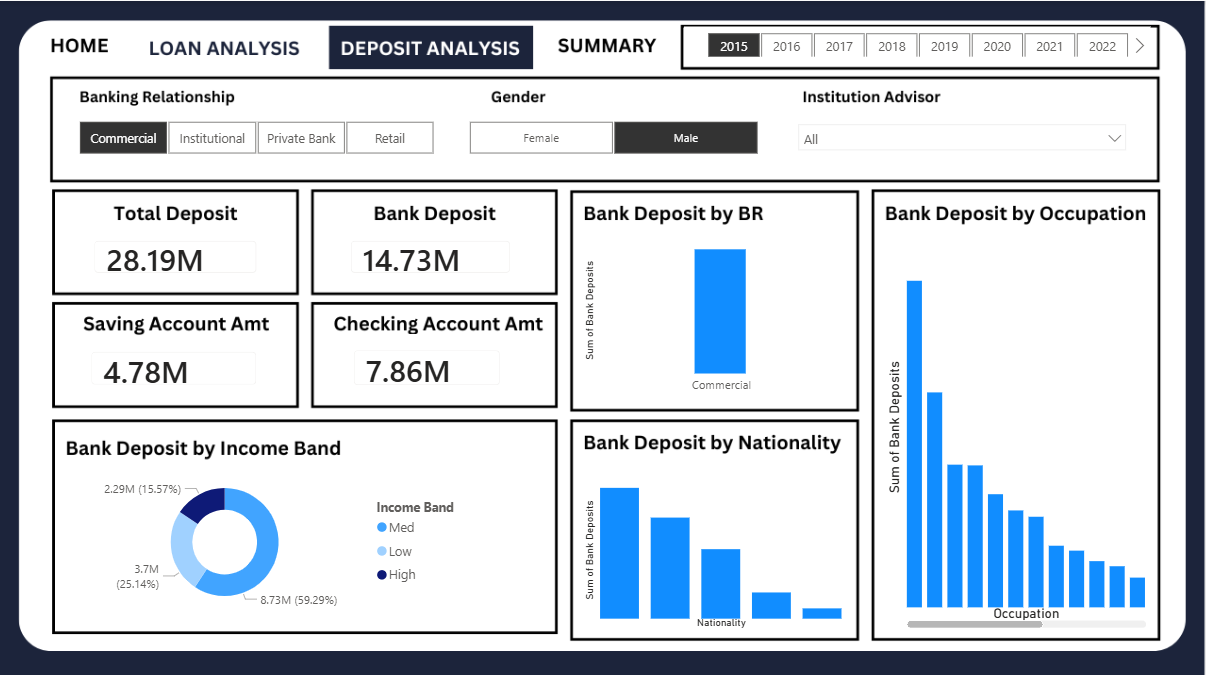

Layout of this report page (visuals, bound fields, positions):
{"tool":"powerbi","page":{"name":"Deposit analysis","canvas":[1280,720],"ordinal":2},"visuals":[{"type":"cardVisual","fields":{"Data":["Sum(Banking (1).Checking Accounts)"]},"box":[361.1,353.1,189.3,71.6],"z":0},{"type":"cardVisual","fields":{"Data":["Sum(Banking (1).Saving Accounts)"]},"box":[82.7,354.7,210,70],"z":1000},{"type":"cardVisual","fields":{"Data":["Sum(Banking (1).Bank Deposits)"]},"box":[357.9,237,203.6,68.4],"z":2000},{"type":"cardVisual","fields":{"Data":["Banking (1).Total Deposit"]},"box":[85.9,237,206.8,68.4],"z":3000},{"type":"actionButton","box":[49.3,30.2,79.5,38.2],"z":4000},{"type":"actionButton","box":[357.9,30.2,203.6,36.6],"z":5000},{"type":"actionButton","box":[580.6,27,130.4,39.8],"z":6000},{"type":"slicer","fields":{"Values":["Banking (1).Joined Bank.Variation.Date Hierarchy.Year"]},"box":[728.5,27,494.7,31.8],"z":7000},{"type":"donutChart","fields":{"Category":["Banking (1).Income Band"],"Y":["Sum(Banking (1).Bank Deposits)"]},"box":[74.8,494.7,432.6,157.5],"z":8000},{"type":"clusteredColumnChart","fields":{"Category":["Banking (1).Nationality"],"Y":["Sum(Banking (1).Bank Deposits)"]},"box":[617.2,494.7,284.7,175],"z":9000},{"type":"clusteredColumnChart","fields":{"Category":["Banking (1).Occupation"],"Y":["Sum(Banking (1).Bank Deposits)"]},"box":[938.5,246.5,284.7,423.1],"z":10000},{"type":"slicer","title":"Banking Realationship","fields":{"Values":["Banking (1).BRId"]},"box":[62,120.9,424.7,47.7],"z":11000},{"type":"slicer","fields":{"Values":["Banking (1).GenderId"]},"box":[475.6,120.9,354.7,47.7],"z":12000},{"type":"slicer","fields":{"Values":["Banking (1).IAId"]},"box":[839.8,120.9,367.4,47.7],"z":13000},{"type":"actionButton","box":[149.5,30.2,179.7,36.6],"z":15000},{"type":"clusteredColumnChart","fields":{"Category":["Banking (1).BRId"],"Y":["Sum(Banking (1).Bank Deposits)"]},"box":[617.2,246.5,284.7,178.1],"z":15001}]}

Visuals, with their boxes in screenshot pixels (x1, y1, x2, y2), scaled from the page's 1280x720 canvas onto the 1206x675 screenshot:
cardVisual - Sum(Banking (1).Checking Accounts): Rect(340, 331, 519, 398)
cardVisual - Sum(Banking (1).Saving Accounts): Rect(78, 333, 276, 398)
cardVisual - Sum(Banking (1).Bank Deposits): Rect(337, 222, 529, 286)
cardVisual - Banking (1).Total Deposit: Rect(81, 222, 276, 286)
actionButton: Rect(46, 28, 121, 64)
actionButton: Rect(337, 28, 529, 63)
actionButton: Rect(547, 25, 670, 63)
slicer - Banking (1).Joined Bank.Variation.Date Hierarchy.Year: Rect(686, 25, 1152, 55)
donutChart - Banking (1).Income Band x Sum(Banking (1).Bank Deposits): Rect(70, 464, 478, 611)
clusteredColumnChart - Banking (1).Nationality x Sum(Banking (1).Bank Deposits): Rect(582, 464, 850, 628)
clusteredColumnChart - Banking (1).Occupation x Sum(Banking (1).Bank Deposits): Rect(884, 231, 1152, 628)
"Banking Realationship" slicer: Rect(58, 113, 459, 158)
slicer - Banking (1).GenderId: Rect(448, 113, 782, 158)
slicer - Banking (1).IAId: Rect(791, 113, 1137, 158)
actionButton: Rect(141, 28, 310, 63)
clusteredColumnChart - Banking (1).BRId x Sum(Banking (1).Bank Deposits): Rect(582, 231, 850, 398)
